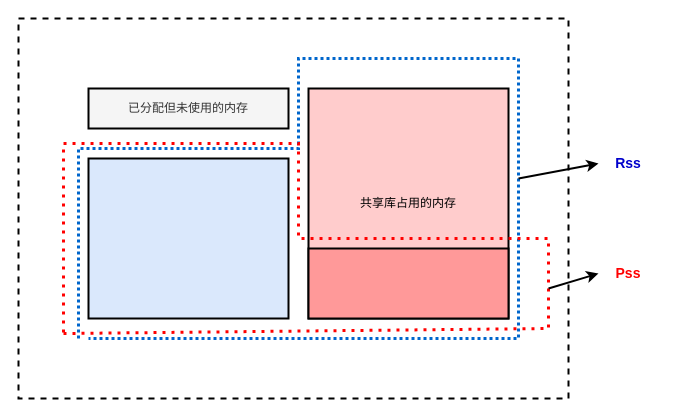
Some shapes in this 675 by 416 pixel diagram are drawn without their labels. Here are the shapes that lost their labels. From the top down, the centre of each, then its label:
the point at 188,238: 已分配且已使用的内存
the point at 408,283: 按比例分配的共享库占用内存
